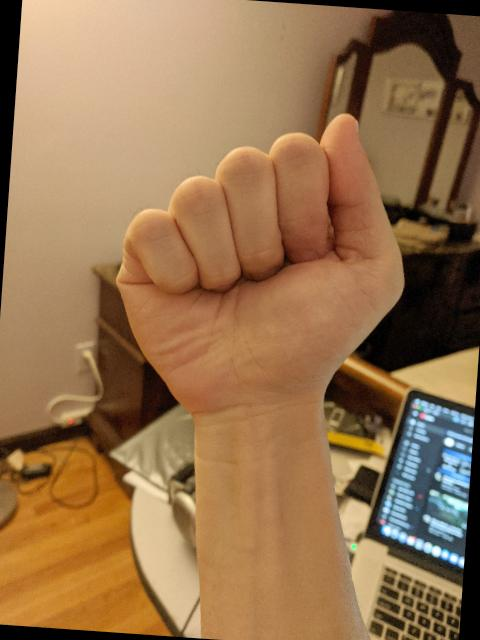A: (94, 90, 426, 444)
